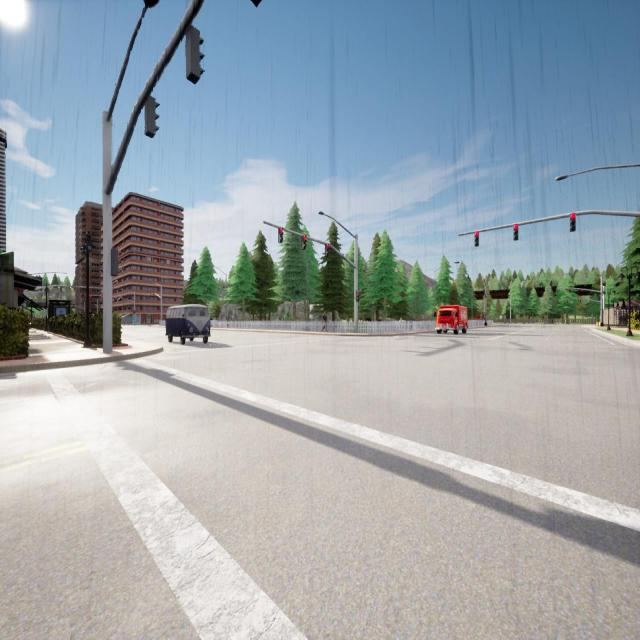Pedestrian: (322, 309, 327, 332)
Traffic_Signs: (499, 316, 502, 319)
Vehicle: (165, 305, 208, 344), (437, 306, 467, 334)
traffic_light: (187, 26, 204, 84), (145, 97, 160, 139), (111, 249, 118, 275), (570, 214, 575, 232), (278, 228, 283, 242), (474, 232, 479, 246), (514, 224, 518, 240), (302, 236, 306, 250), (326, 243, 330, 256), (356, 290, 359, 301), (101, 296, 103, 300), (569, 288, 571, 292), (90, 295, 92, 298), (134, 310, 135, 314), (557, 300, 559, 302), (580, 299, 581, 303), (567, 300, 568, 302)
